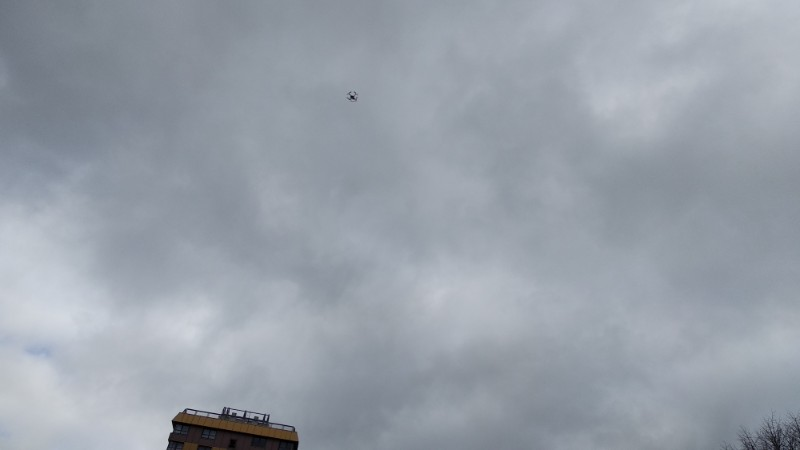drone: (347, 90, 359, 104)
